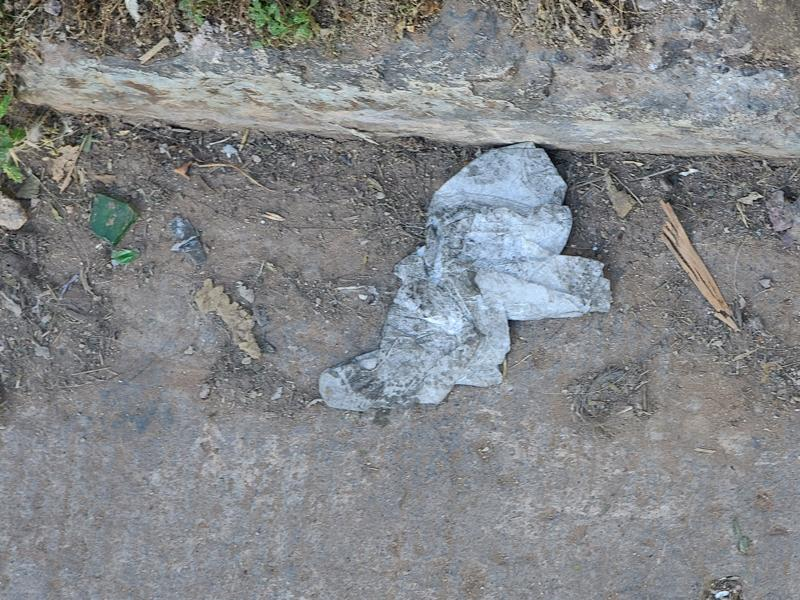papel: (320, 144, 610, 415)
